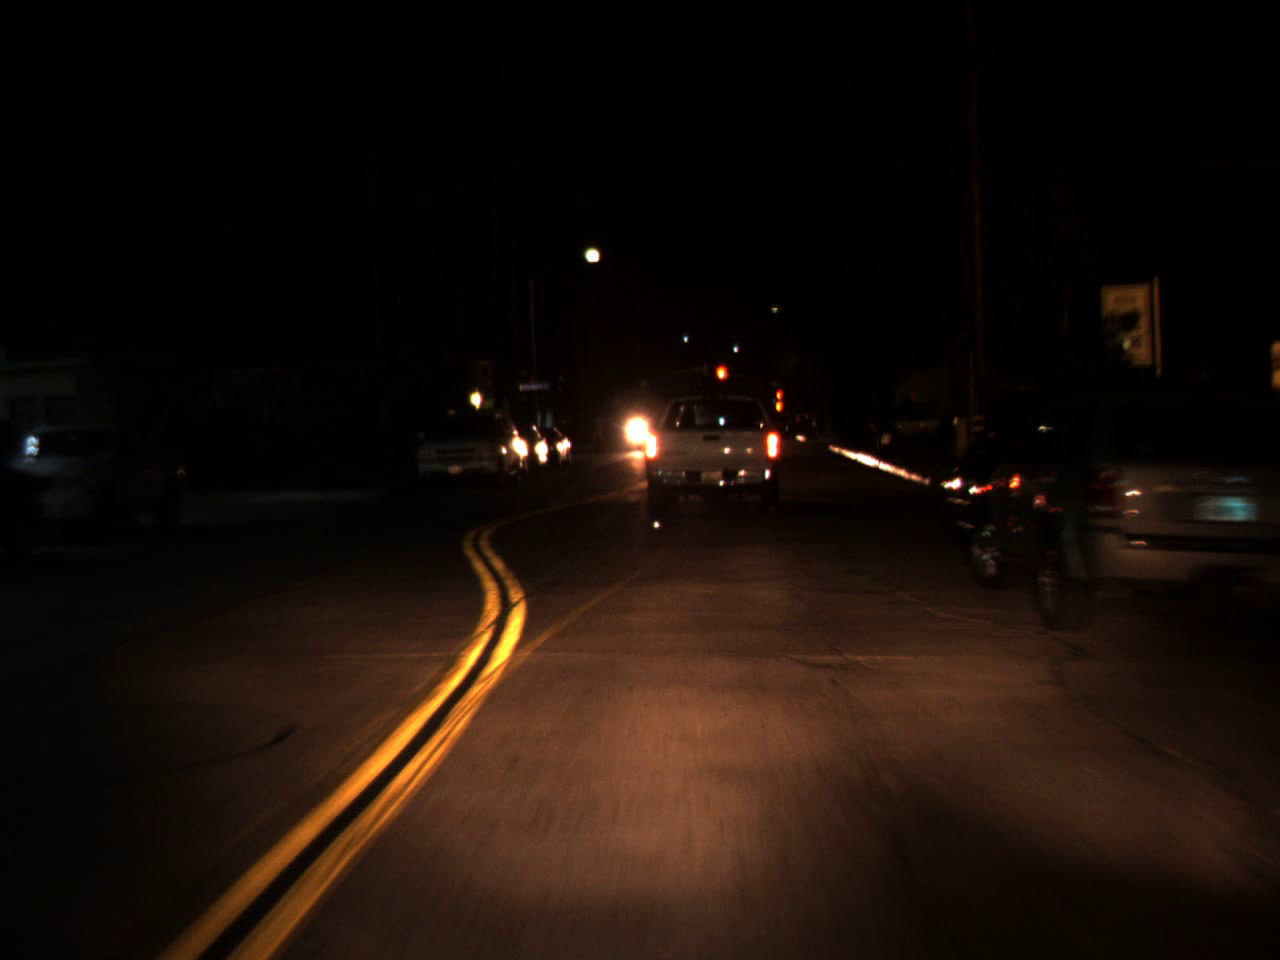stop: (714, 364, 727, 396), (774, 388, 783, 409)
